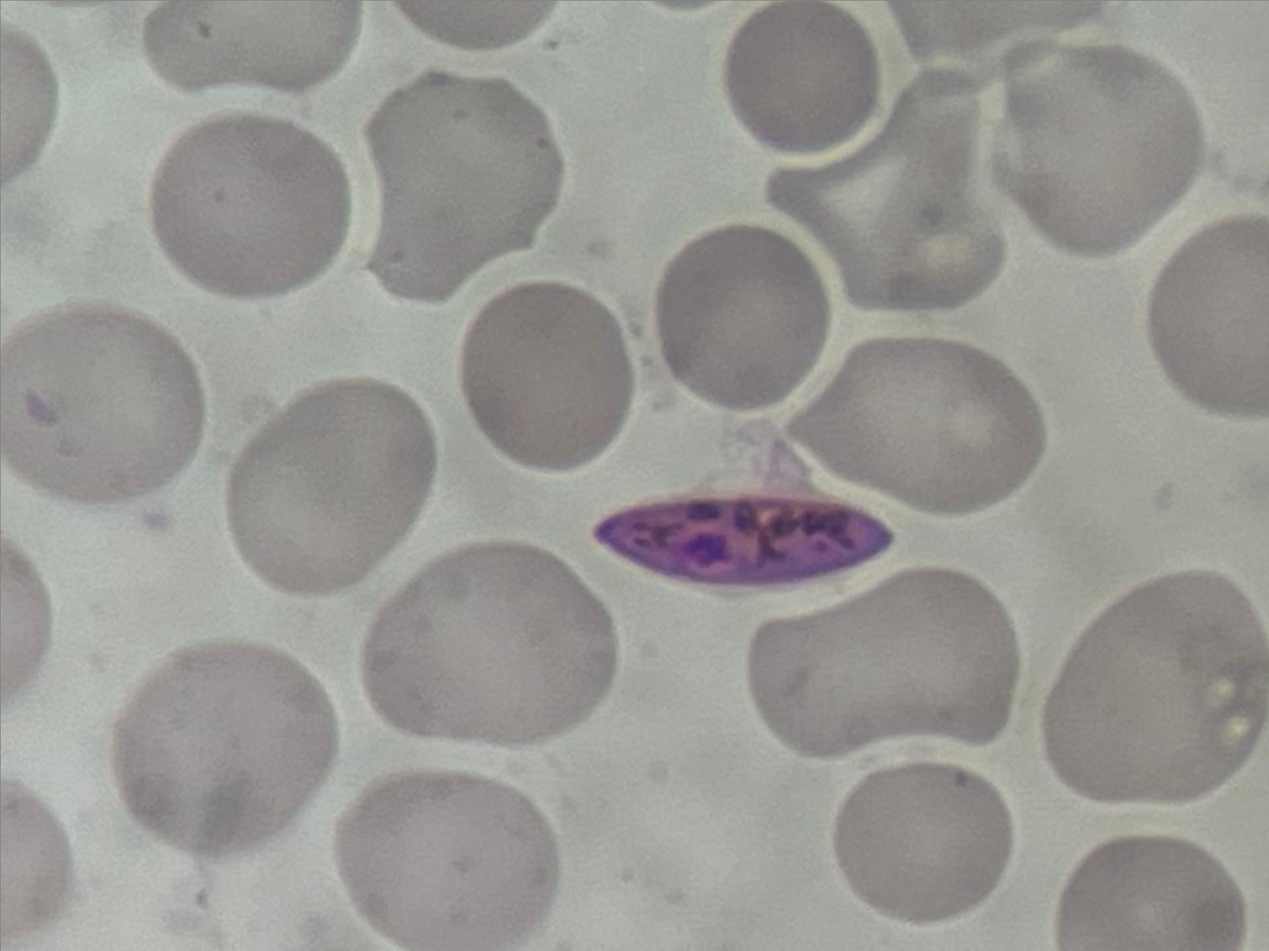Infected: (595, 494, 897, 581)
Uninfected: (771, 67, 1013, 314), (1042, 571, 1269, 812), (361, 543, 623, 746), (745, 568, 1022, 759), (110, 640, 339, 850), (361, 71, 567, 302), (229, 375, 438, 599), (1000, 32, 1203, 258), (789, 338, 1047, 514), (335, 772, 563, 951), (0, 305, 203, 503), (154, 106, 354, 299), (463, 283, 636, 471), (837, 748, 1018, 924), (659, 225, 828, 409), (1148, 217, 1269, 418), (727, 1, 878, 155), (1058, 836, 1244, 951)
